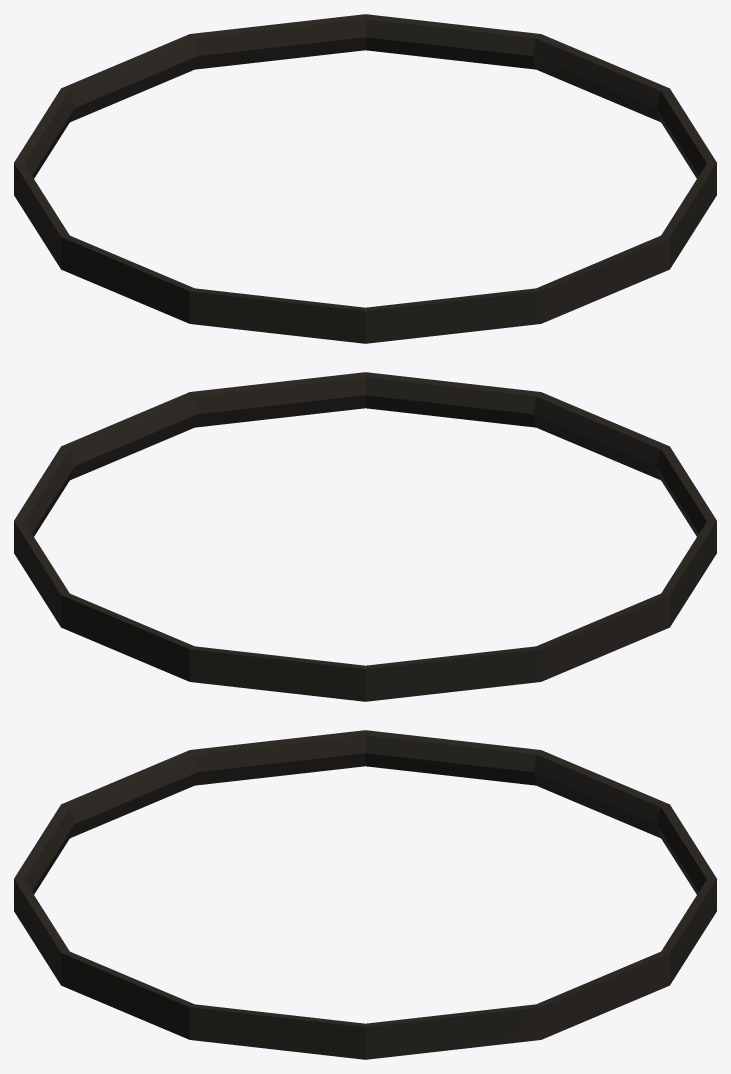
The model's file is Barrel_Piece2.fbx.
3 views of the same model, one above another, from view 1: azimuth 30°, elevation 25°; view 2: azimuth 150°, elevation 25°; view 3: azimuth 270°, elevation 25° (orthographic).
Parts seen in each view (by area): view 1: Barrel_Piece_2; view 2: Barrel_Piece_2; view 3: Barrel_Piece_2.
Boxes of the visible parts, bbox=[...] form: Barrel_Piece_2: bbox=[14, 14, 716, 343]; Barrel_Piece_2: bbox=[14, 372, 716, 701]; Barrel_Piece_2: bbox=[14, 730, 716, 1059].
Size of the model in its own units: 106 by 5.4 by 106.
1 material, 1 textured.
